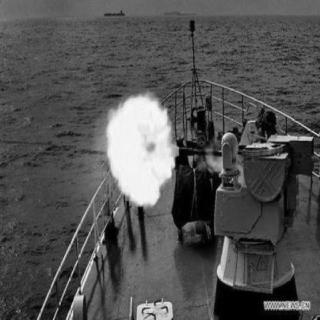Fire: (97, 85, 183, 201)
